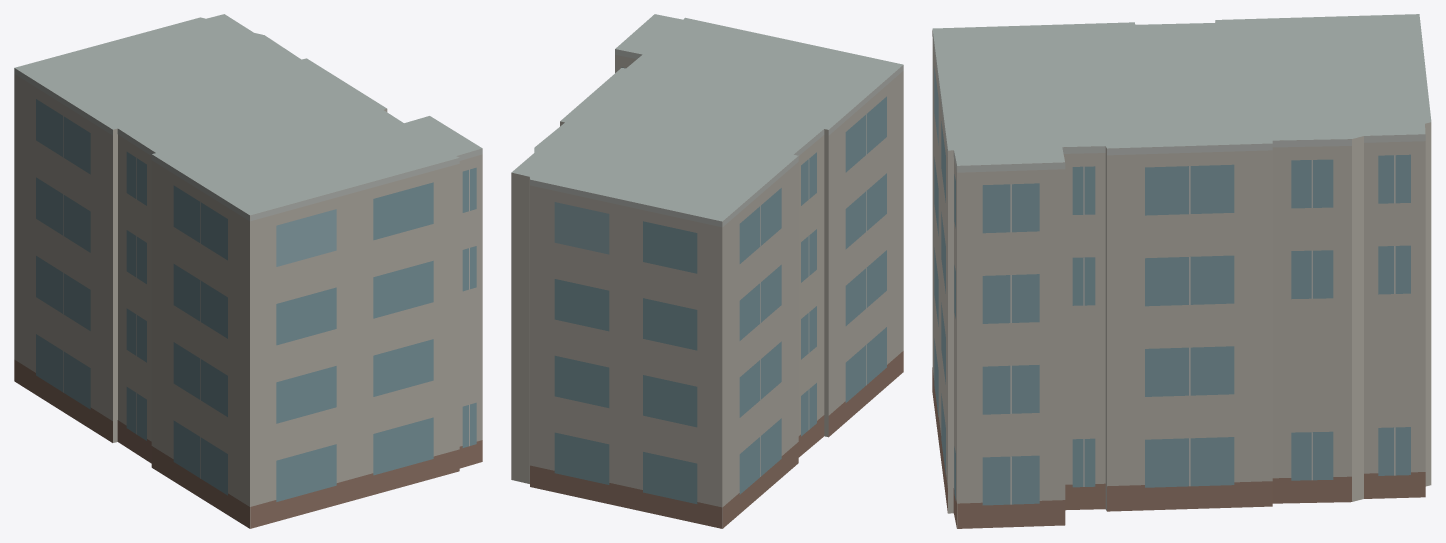
The model's file is survey-upis-32988274.glb.
3 renders of one model, left to right at view 1: azimuth 30°, elevation 25°; view 2: azimuth 150°, elevation 25°; view 3: azimuth 270°, elevation 25°, orthographic. The views are drawn at different scales.
Visible parts, largest first — view 1: survey-upis-32988274.tmp; view 2: survey-upis-32988274.tmp; view 3: survey-upis-32988274.tmp.
Boxes of the visible parts, x1,y1,x2,y2 form: survey-upis-32988274.tmp: [14, 14, 482, 528]; survey-upis-32988274.tmp: [511, 14, 903, 528]; survey-upis-32988274.tmp: [932, 14, 1431, 528].
Size of the model in its own units: 11.59 by 12.9 by 16.08.
